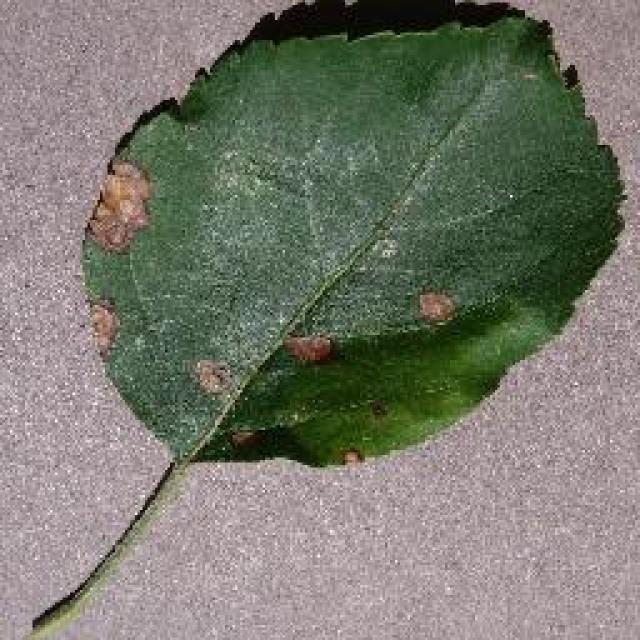Black_rot: (78, 0, 628, 468)
